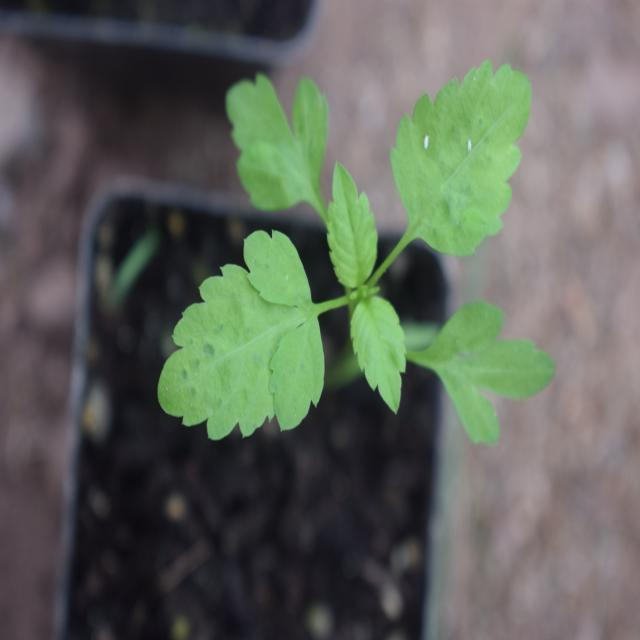Bidens pilosa: (151, 50, 559, 462)
